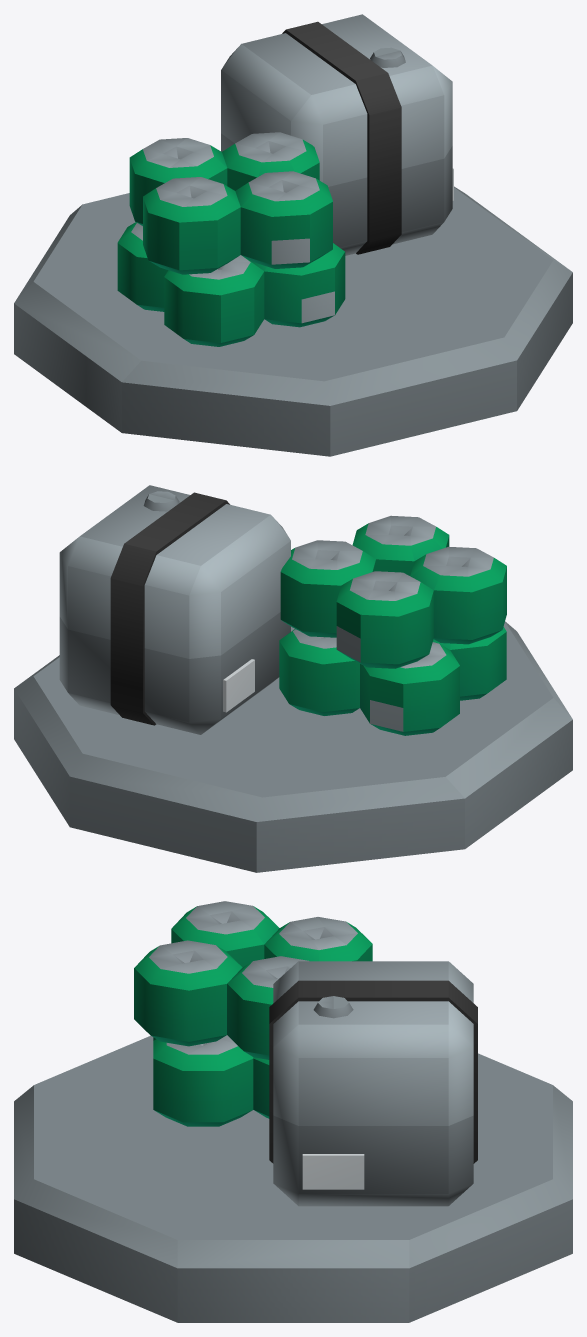
Rendered from roofmodule_cargo_A.glb.
The picture shows the model from 3 angles, top to bottom: view 1: azimuth 30°, elevation 25°; view 2: azimuth 150°, elevation 25°; view 3: azimuth 270°, elevation 25°; orthographic projection. The views are drawn at different scales.
Parts seen in each view (by area): view 1: roofmodule_cargo_A; view 2: roofmodule_cargo_A; view 3: roofmodule_cargo_A.
Part boxes in pixels (left/top/right/bottom): roofmodule_cargo_A: left=14, top=14, right=572, bottom=456; roofmodule_cargo_A: left=14, top=485, right=572, bottom=872; roofmodule_cargo_A: left=14, top=901, right=572, bottom=1322.
Size of the model in its own units: 1.4 by 0.72 by 1.4.
1 material, 1 textured.
